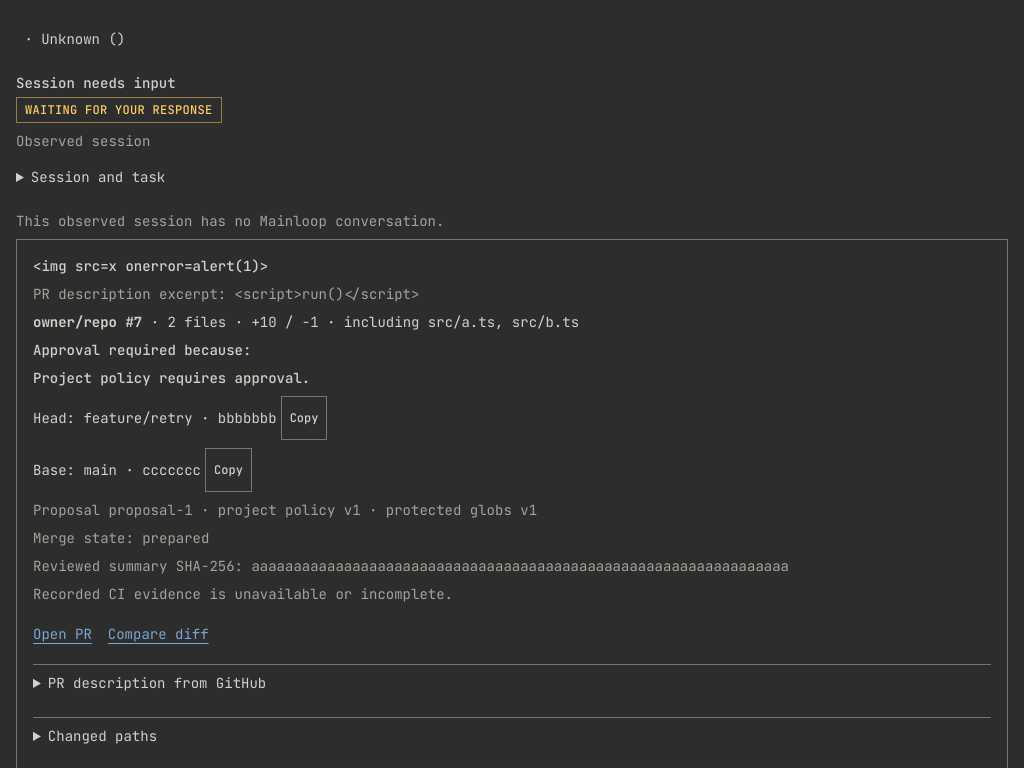
Test case: HITLCard › renders the server merge context as text and loads details only when opened
expect the heading "<img src=x onerror=alert(1)>" is shown: met, box [33,257,268,275]
Step 1. Click the heading "Changed paths" → (102, 736), box [48,727,157,745]
(page scrolled)
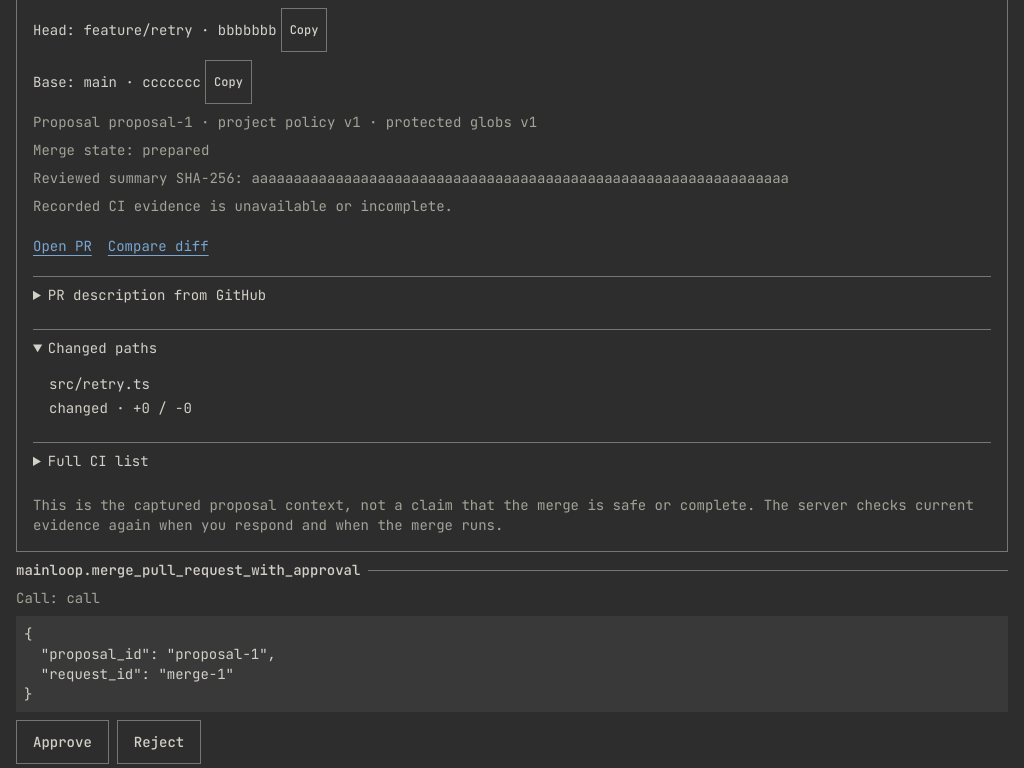
expect the text "src/retry.ts" is shown: met, box [49,375,150,393]
